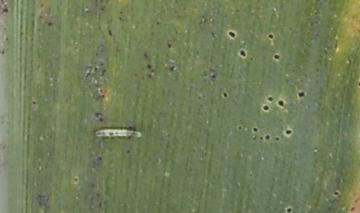tarspot: (226, 27, 239, 41), (207, 71, 219, 83), (143, 61, 156, 72), (237, 47, 248, 59), (271, 51, 283, 62), (296, 88, 307, 100), (283, 126, 294, 138), (164, 40, 176, 51), (235, 121, 245, 134), (330, 188, 343, 198), (277, 97, 286, 111), (28, 97, 39, 108), (220, 88, 230, 100), (265, 92, 275, 104), (266, 31, 277, 41), (96, 114, 106, 125), (71, 174, 80, 186), (123, 147, 135, 156), (166, 64, 179, 72), (262, 102, 271, 113), (262, 133, 273, 142), (1, 6, 13, 14), (272, 133, 282, 142), (283, 205, 294, 213), (96, 153, 104, 164), (348, 204, 357, 213), (250, 125, 258, 134)
